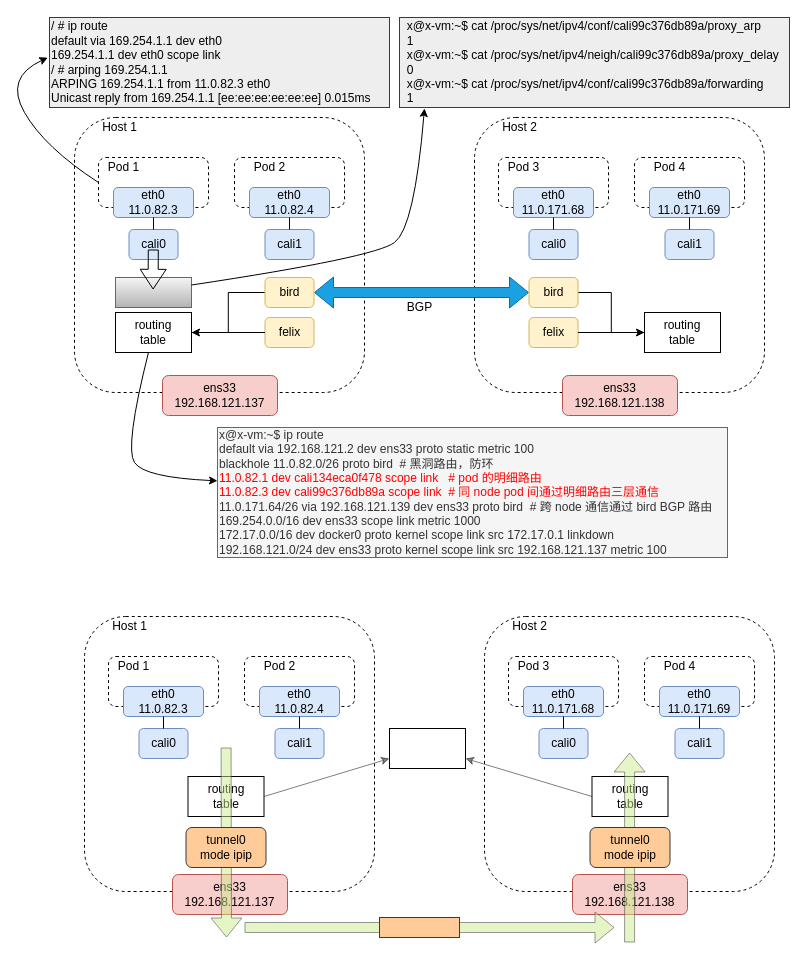
This 807x961 diagram has some shape labels left out. The box of each missing label's shape, as (x1, y1, x2, y2) in pixels:
forward: (114, 276, 192, 308)
IP in IP 封装: (378, 916, 460, 938)
pod 明细路由: (388, 728, 466, 768)
